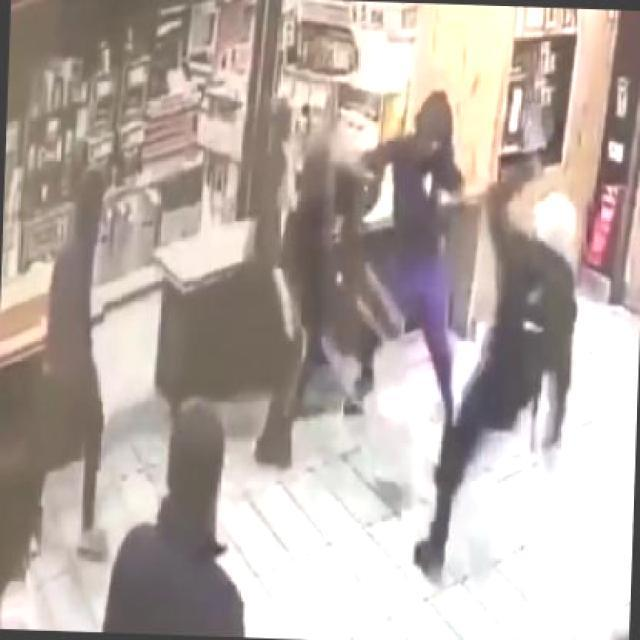fight: (290, 80, 470, 300)
